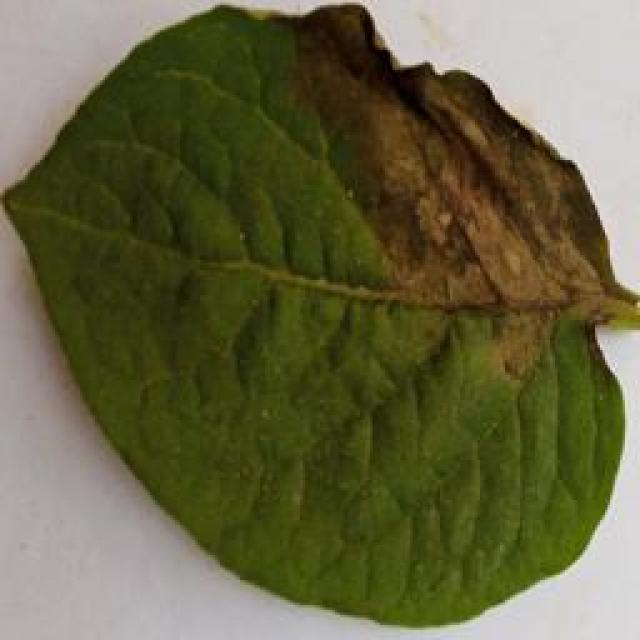Potato_Late_Blight: (0, 8, 628, 632)
